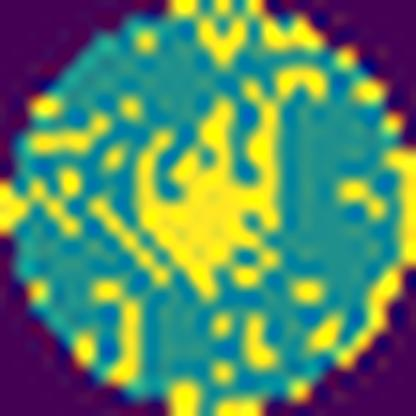Center: (134, 66, 331, 308)
